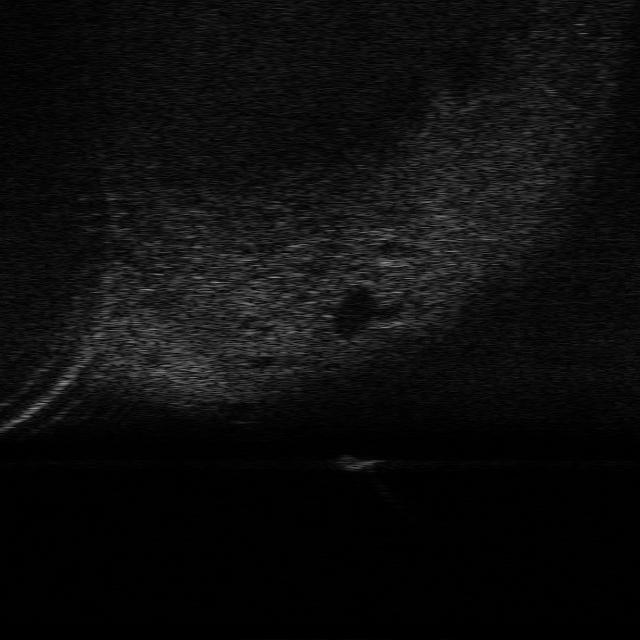cube: (330, 450, 385, 472)
